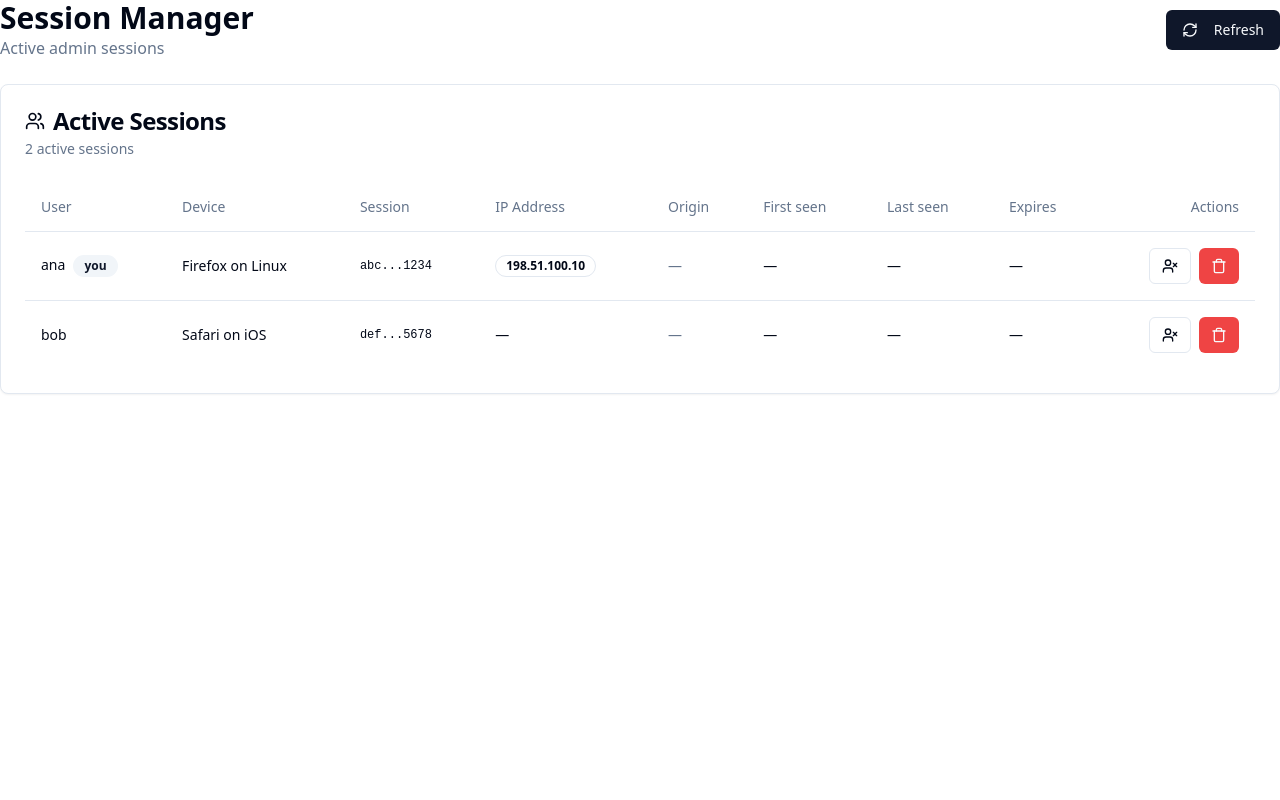
Scenario: InfraManagerPage › offers to revoke every session of a user, and says the caller keeps theirs
This screenshot has width=1280, height=800.
Click the button named "revoke all sessions of bob": (1170, 334) 1149,316 -> 1191,352
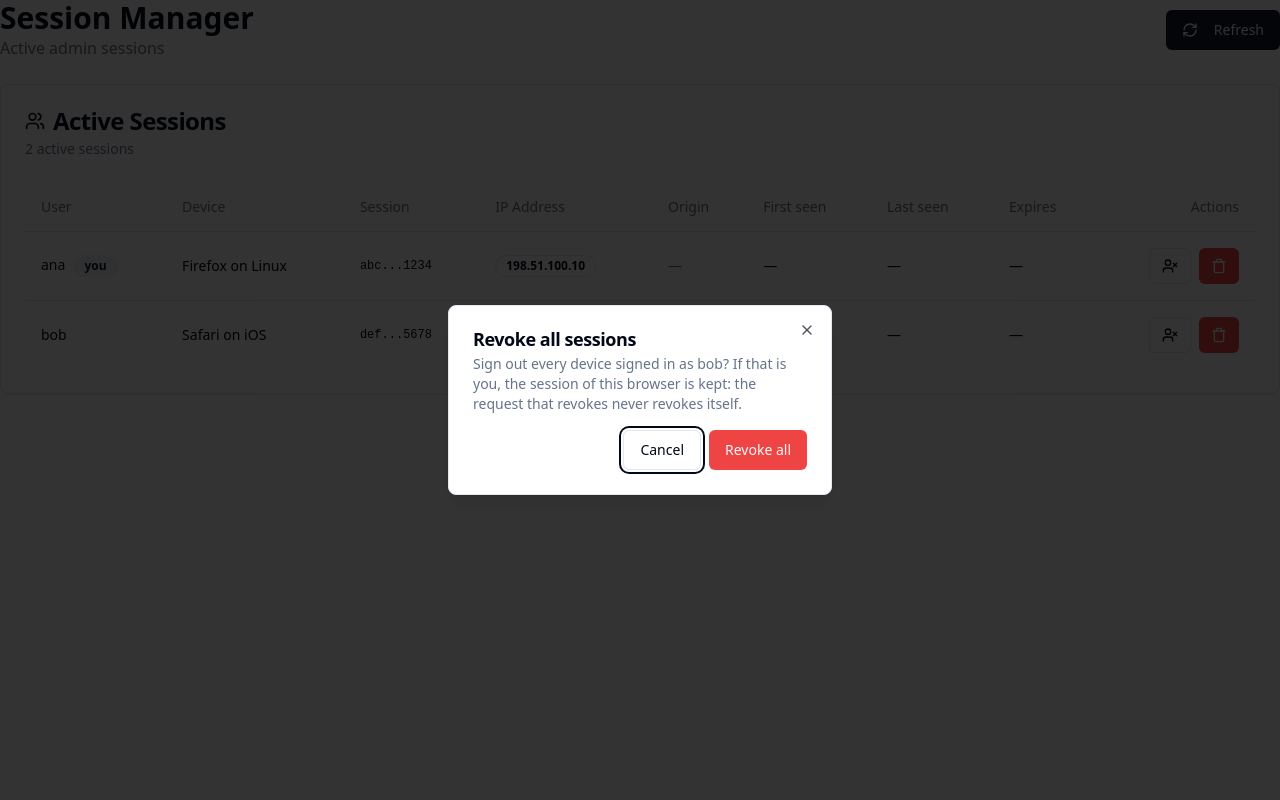
Expected: the dialog shows "signed in as", 473,354 -> 697,373
Expected: the dialog shows "bob", 697,354 -> 723,373
Expected: the dialog shows "this browser is kept", 473,354 -> 786,413
